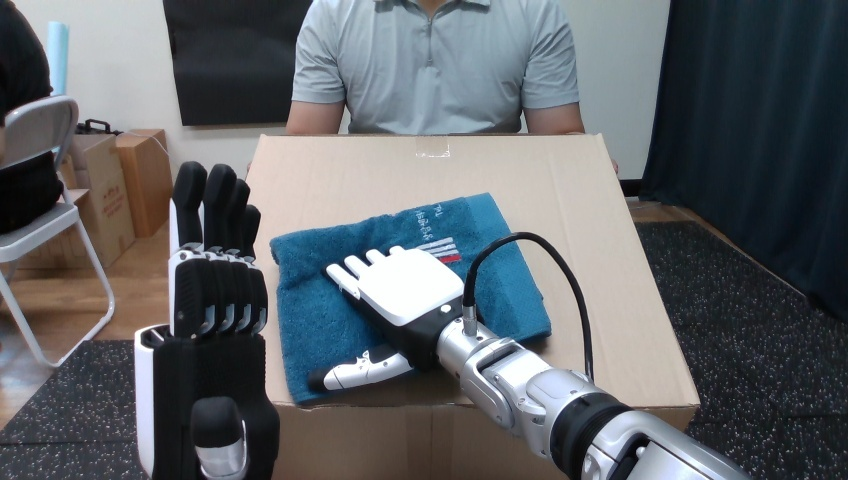left robot hand: (311, 232, 748, 479), (135, 161, 279, 478), (474, 239, 585, 373)
